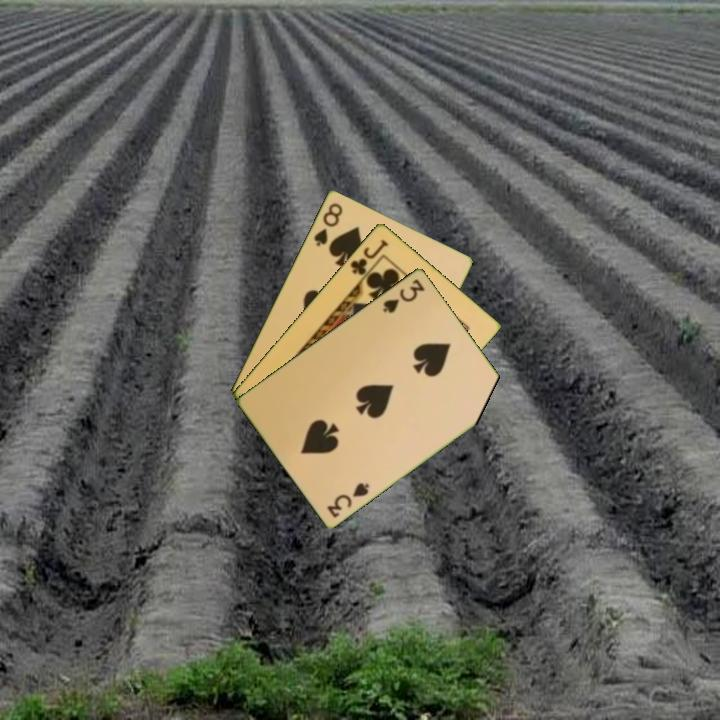3s: (323, 478, 373, 520), (379, 275, 428, 316)
8s: (310, 199, 346, 249)
Jc: (346, 235, 391, 278)
